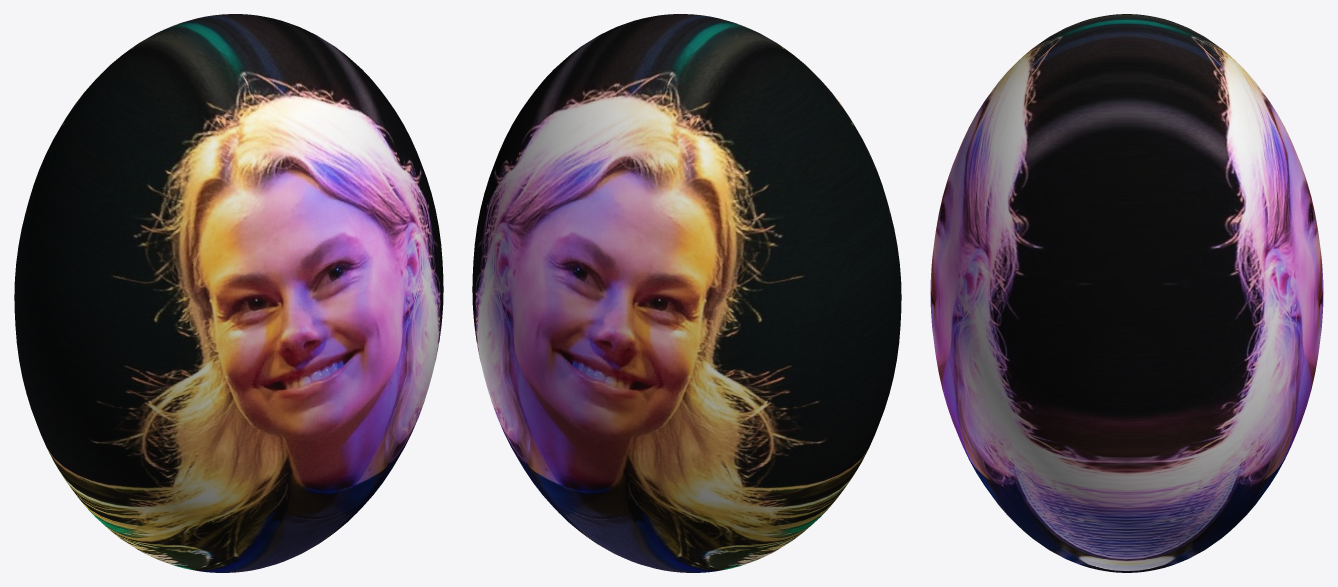
3 renders of one model, left to right at view 1: azimuth 30°, elevation 25°; view 2: azimuth 150°, elevation 25°; view 3: azimuth 270°, elevation 25°, orthographic.
Visible parts, largest first — view 1: head; view 2: head; view 3: head.
Part boxes in pixels (x1,y1,x2,y2): head: (14,14,443,572); head: (472,14,901,572); head: (930,14,1323,572).
Size of the model in its own units: 1.5 by 2 by 1.35.
1 material, 1 textured.
